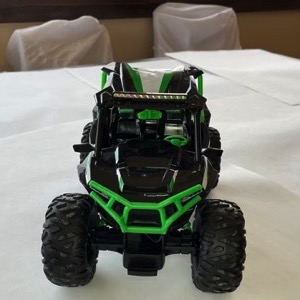polaris: (40, 59, 249, 295)
